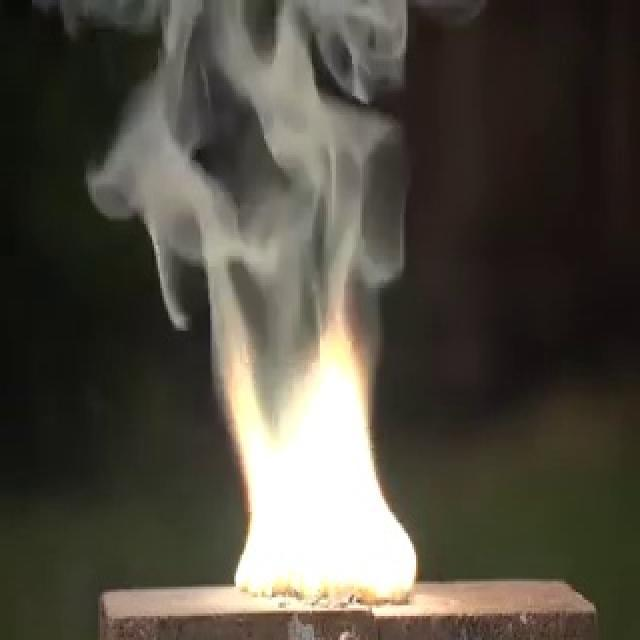fire: (225, 258, 419, 608)
